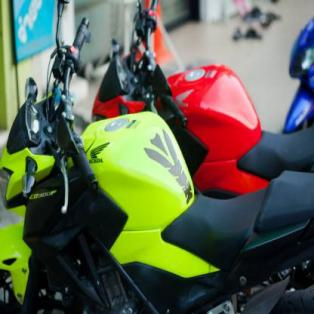Motocicleta: (0, 0, 313, 314), (98, 0, 313, 177)
